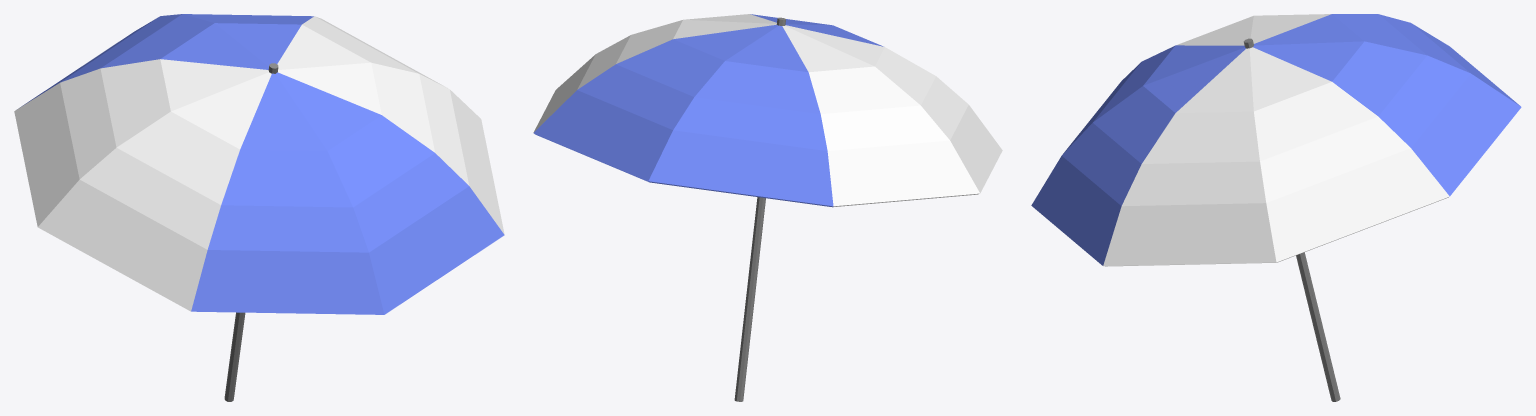
File: beach umbrella ok.fbx
3 views of the same model, side by side, from view 1: azimuth 30°, elevation 25°; view 2: azimuth 150°, elevation 25°; view 3: azimuth 270°, elevation 25° (orthographic). The views are drawn at different scales.
Parts seen in each view (by area): view 1: Umbrella; view 2: Umbrella; view 3: Umbrella.
Boxes of the visible parts, x1,y1,x2,y2 form: Umbrella: (14,14,504,401); Umbrella: (533,14,1002,401); Umbrella: (1031,14,1521,401).
Size of the model in its own units: 161 by 128 by 157.
Materials: 1 (1 with a texture image).
